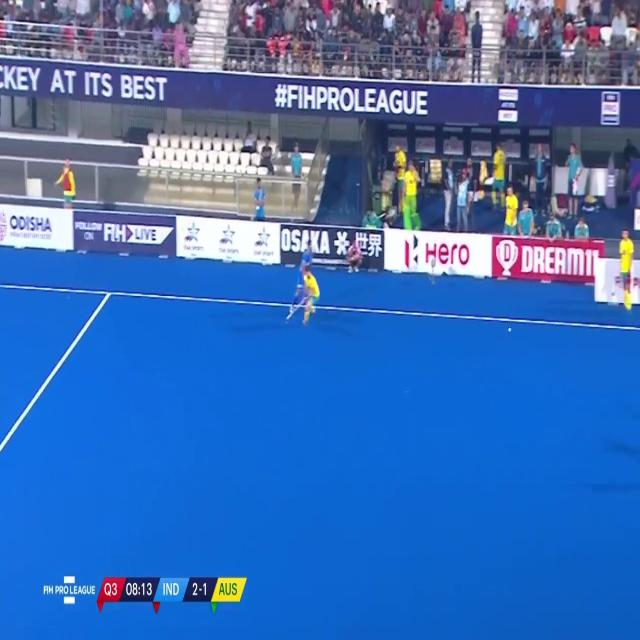ball: (507, 325, 512, 334)
